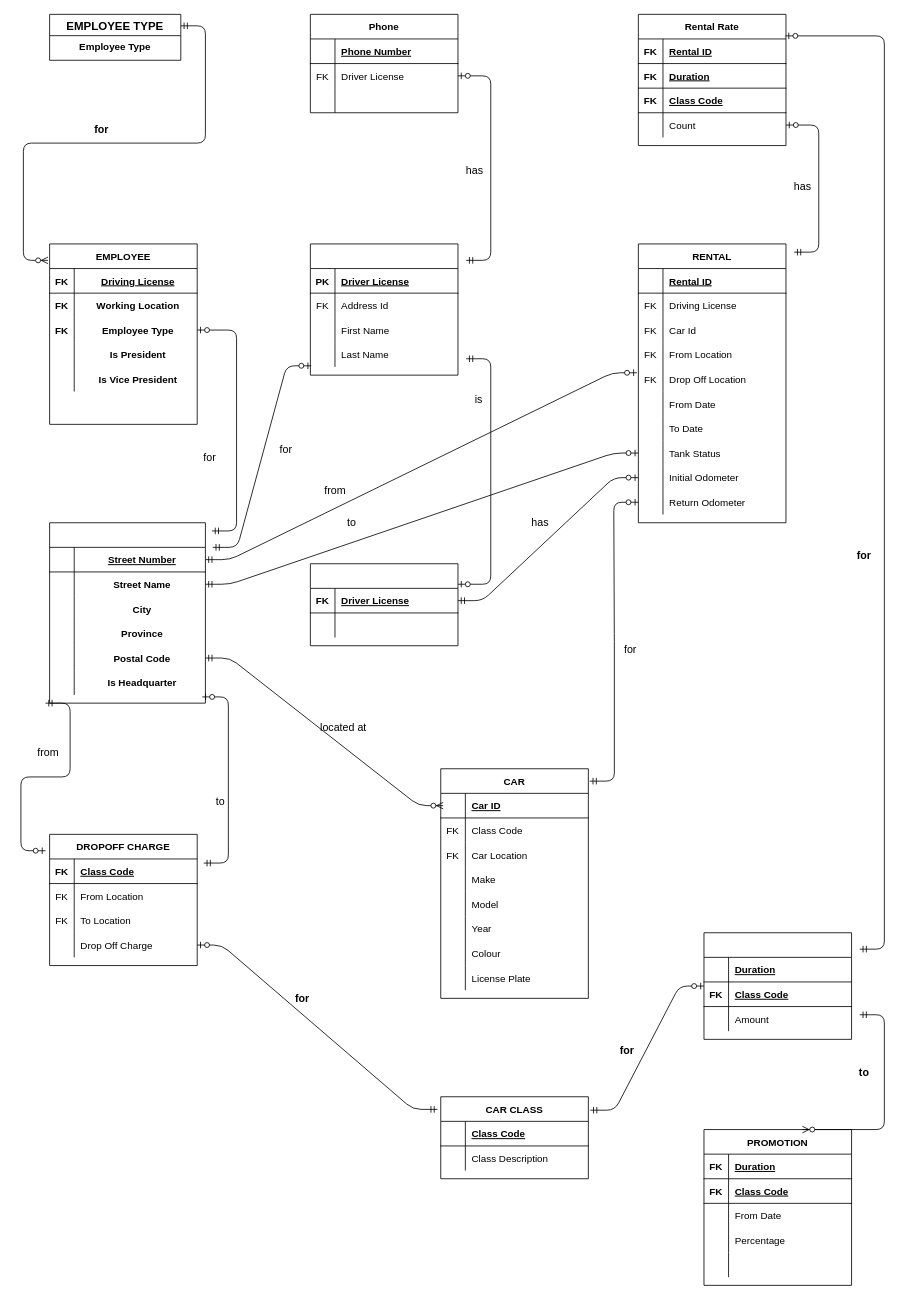
The diagram is 906 pixels wide and 1300 high, and some of its shapes have lost their labels. Each missing label, with the box of its shape:
ADDRESS: (49, 522, 205, 703)
CUSTOMER: (310, 563, 458, 646)
Person: (310, 243, 458, 375)
PROMOTION RATE: (703, 932, 852, 1039)
